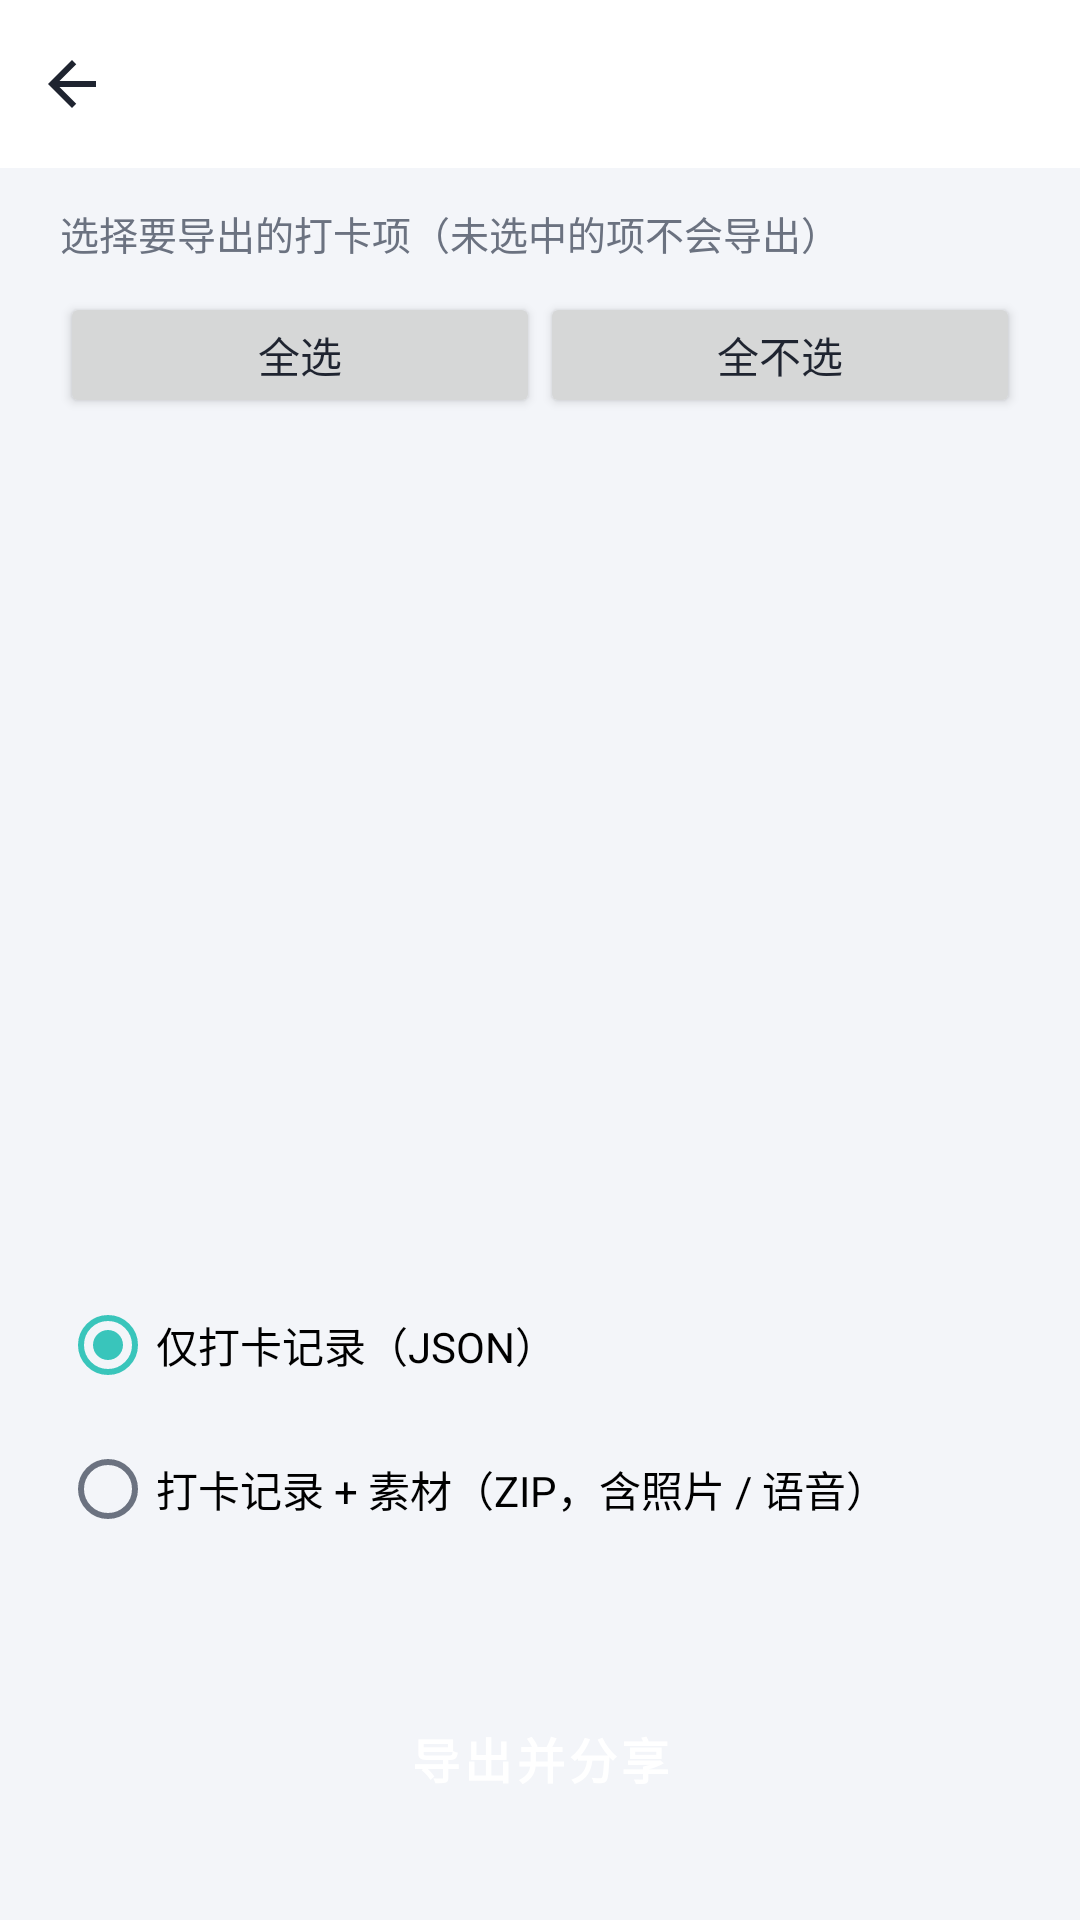

Screen size 1080px×1920px. Icon name, then its center in pixels as point (x, y):
返回: point (72, 84)
